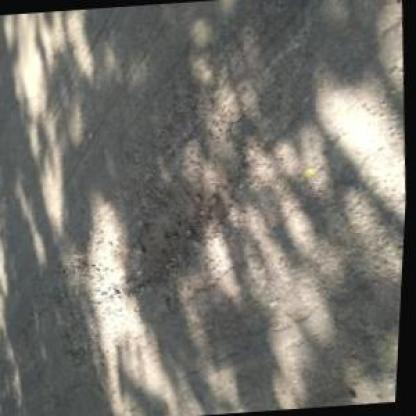pothole: (115, 155, 243, 298)
